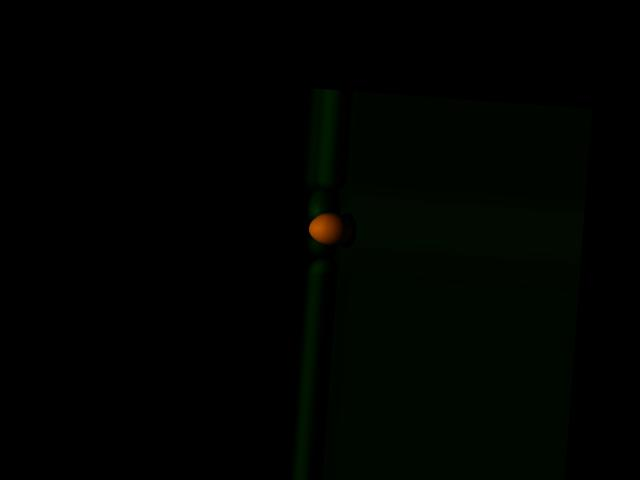egg: (308, 210, 353, 246)
